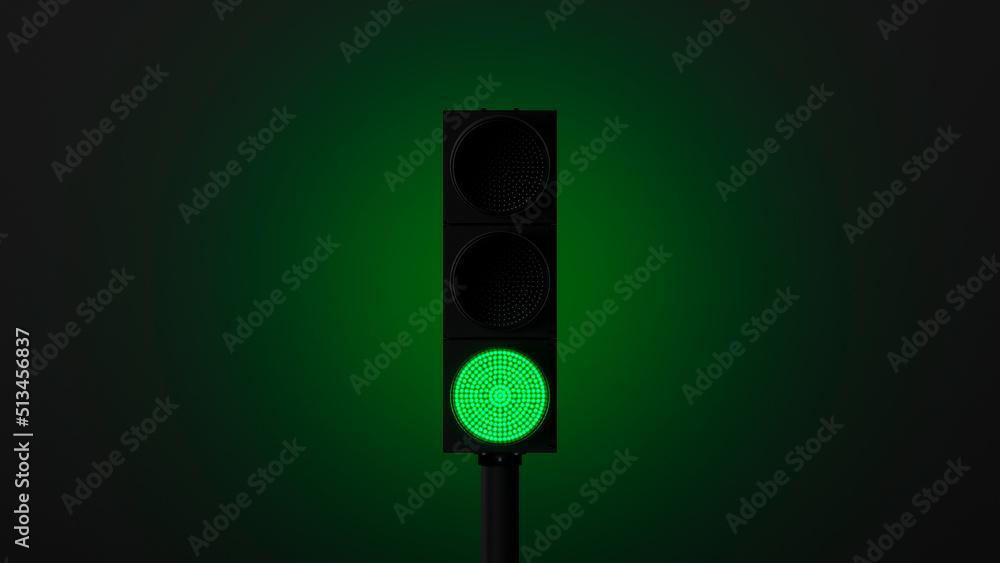green: (439, 106, 566, 450)
